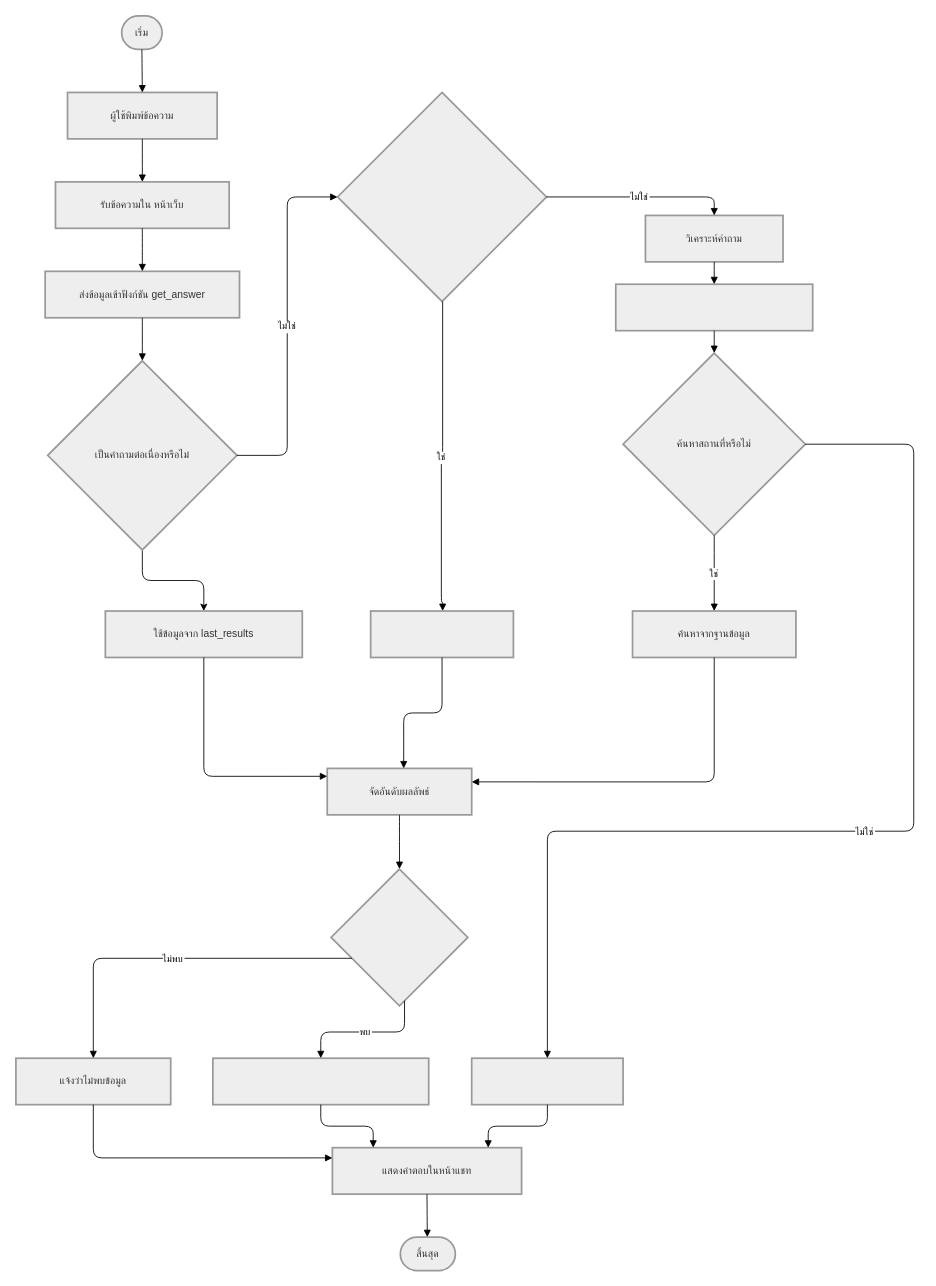
Some shapes in this 936 by 1286 pixel diagram are drawn without their labels. The centre of each missing label's shape, as x and y in pixels:
"ค้นหาชื่อสถานที่" belongs at pixel 441 634.
"ตอบแบบคุยทั่วไป" belongs at pixel 547 1081.
"พบข้อมูลหรือไม่" belongs at pixel 399 937.
"สร้างคำตอบและแสดงสถานที่" belongs at pixel 320 1081.
"เป็นชื่อสถานที่โดยตรงหรือไม่" belongs at pixel 441 196.
"ใช้ Gemini และ keyword" belongs at pixel 713 307.
